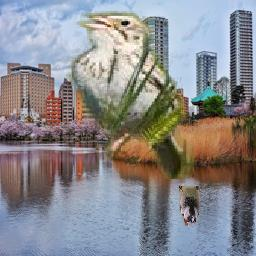Sparrow: (68, 11, 195, 179), (180, 186, 201, 226)
